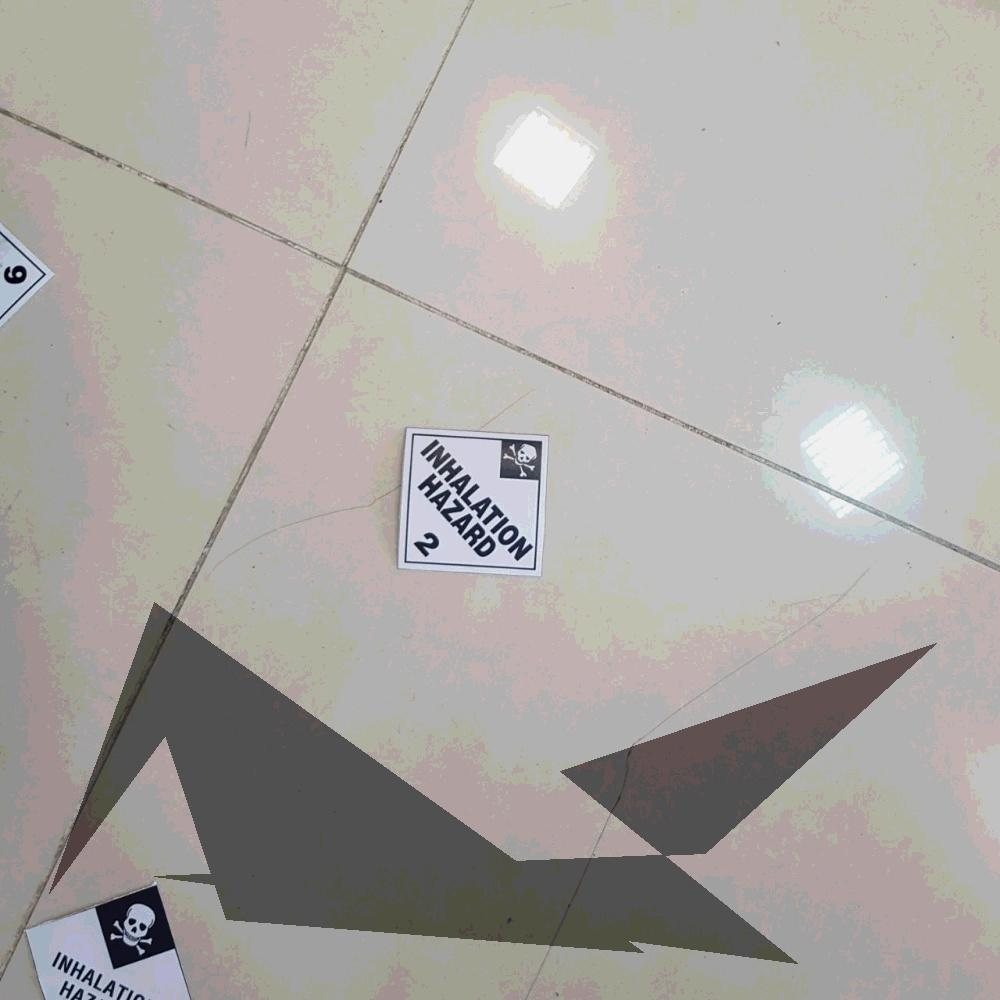poison: (398, 429, 548, 574), (24, 881, 193, 1000)
